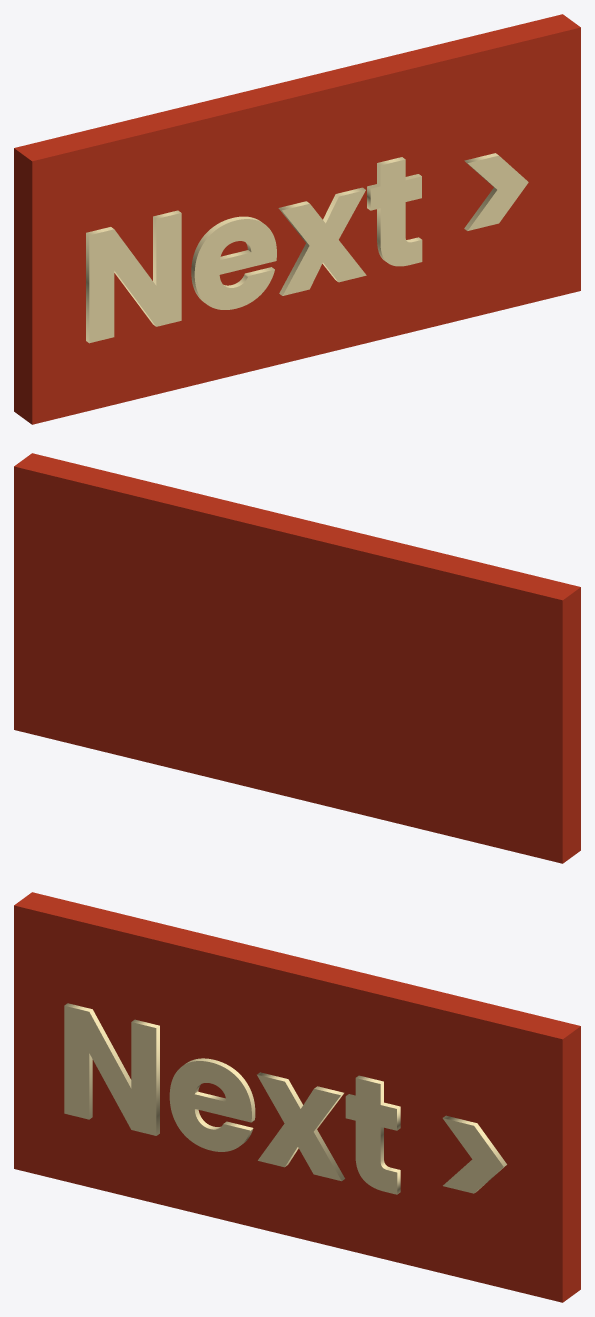
The model's file is nextButton.gltf.
3 views of the same model, one above another, from view 1: azimuth 30°, elevation 25°; view 2: azimuth 150°, elevation 25°; view 3: azimuth 330°, elevation 25° (orthographic).
Visible parts, largest first — view 1: nextButton.001, Text.003; view 2: nextButton.001; view 3: nextButton.001, Text.003.
Part boxes in pixels (<box>): nextButton.001: <box>14,14,580,424</box>; Text.003: <box>86,153,528,343</box>; nextButton.001: <box>14,453,580,863</box>; nextButton.001: <box>14,892,580,1302</box>; Text.003: <box>64,1003,506,1194</box>.
Size of the model in its own units: 2.18 by 1 by 0.1486.
